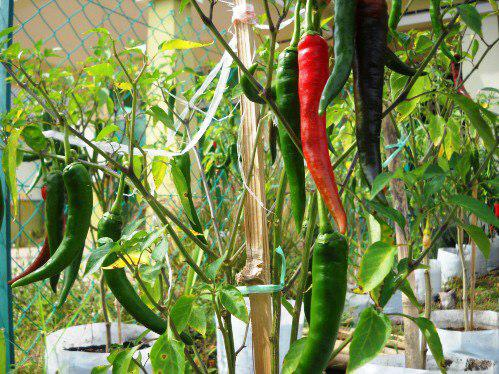lada hijau: (95, 210, 182, 337), (294, 232, 362, 374), (23, 158, 91, 292)
lada merah: (296, 31, 349, 233)
